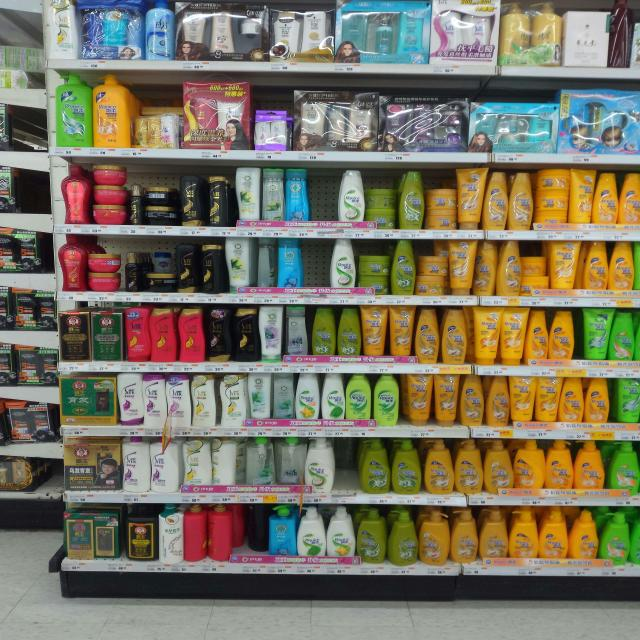empty: (331, 438, 368, 494), (307, 171, 344, 226), (299, 239, 333, 293)
